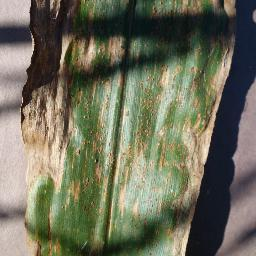Gray_Leaf_Spot: (130, 0, 239, 256), (16, 0, 112, 169), (112, 92, 130, 256), (22, 210, 62, 256), (68, 170, 106, 203), (113, 20, 129, 92), (23, 169, 63, 194), (86, 228, 106, 256), (83, 202, 106, 218)
